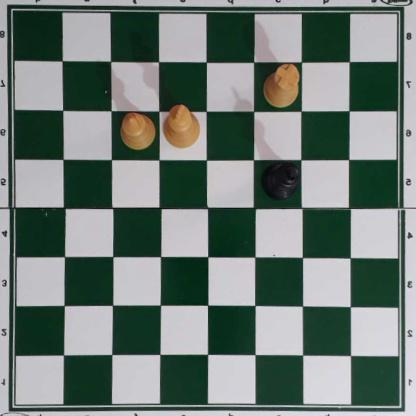black-king: (263, 159, 299, 198)
white-bishop: (121, 110, 156, 149)
white-king: (162, 105, 204, 147)
white-rook: (264, 63, 301, 104)
